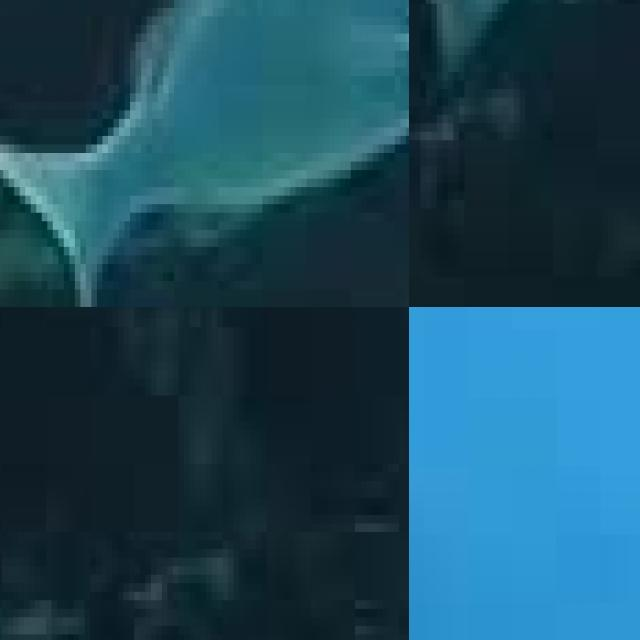fish: (0, 0, 409, 307), (409, 307, 512, 640)
